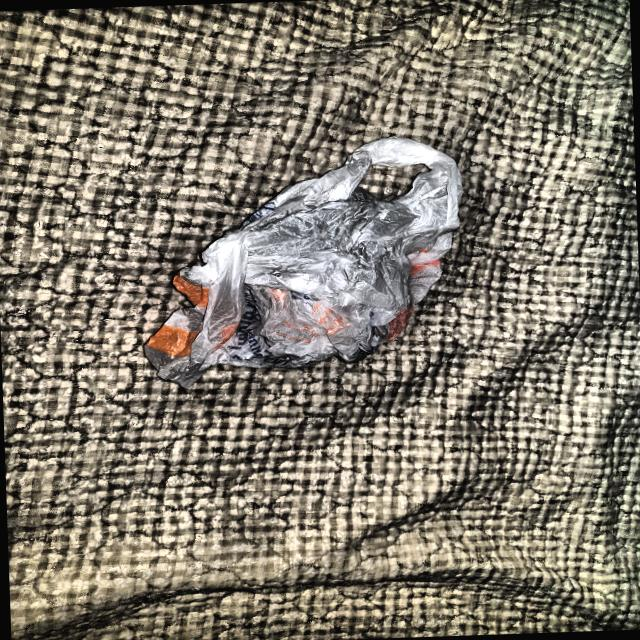plastic bag: (123, 126, 479, 400)
